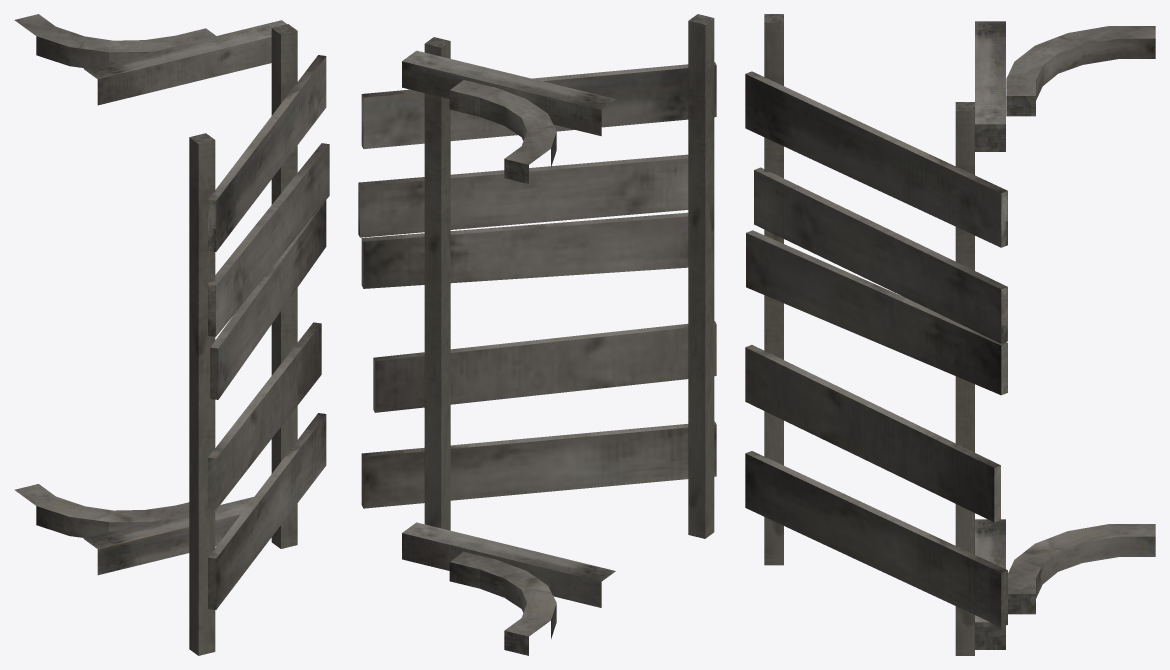
The model's file is awning_desert_wood3.glb.
3 renders of one model, left to right at view 1: azimuth 30°, elevation 25°; view 2: azimuth 150°, elevation 25°; view 3: azimuth 270°, elevation 25°, orthographic. The views are drawn at different scales.
Bounding box in the file's own units: 30.59 × 61.49 × 41.96.
1 material, 1 textured.
